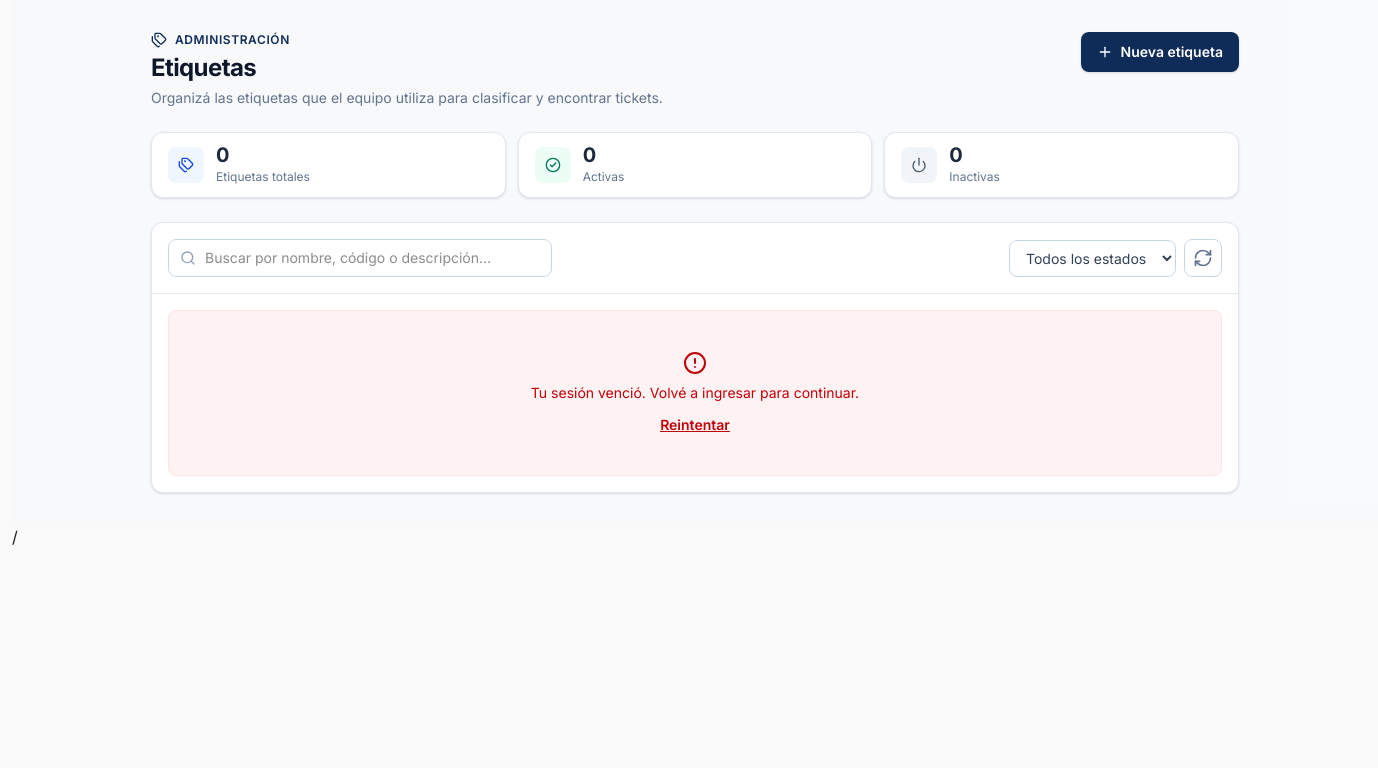
Test case: LabelsPage - listado › traduce el error de carga 0 y permite reintentar
Expected: the text "Tu sesión venció. Volvé a ingresar para continuar." is shown, [531,383,859,403]
Click the button "Reintentar".
click(695, 425)  # box [660,415,730,435]
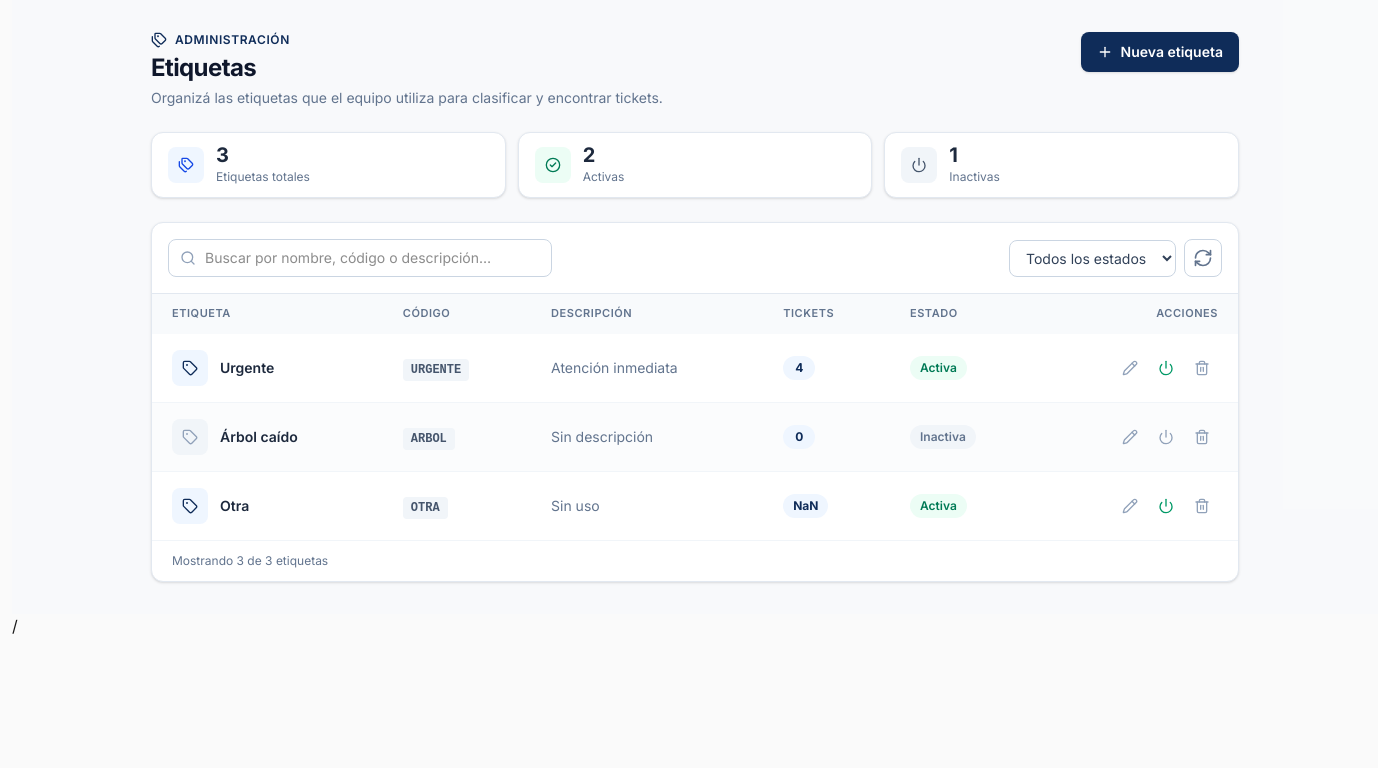
Now the text "Urgente" is shown, box [220,358,274,378]
